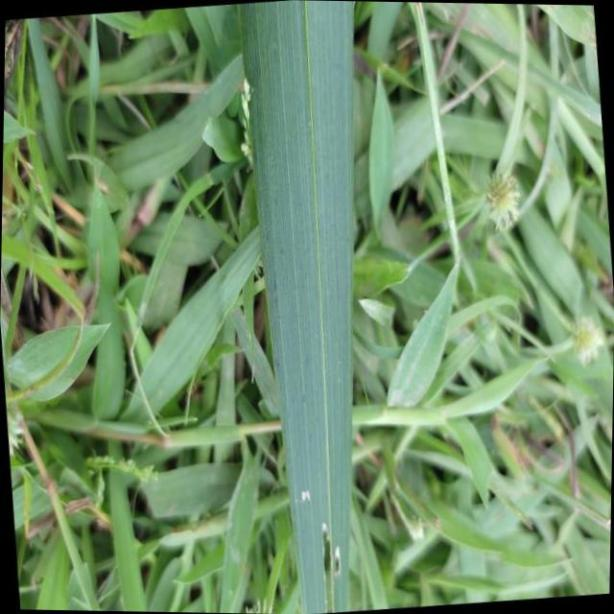Boron: (243, 0, 368, 614)
